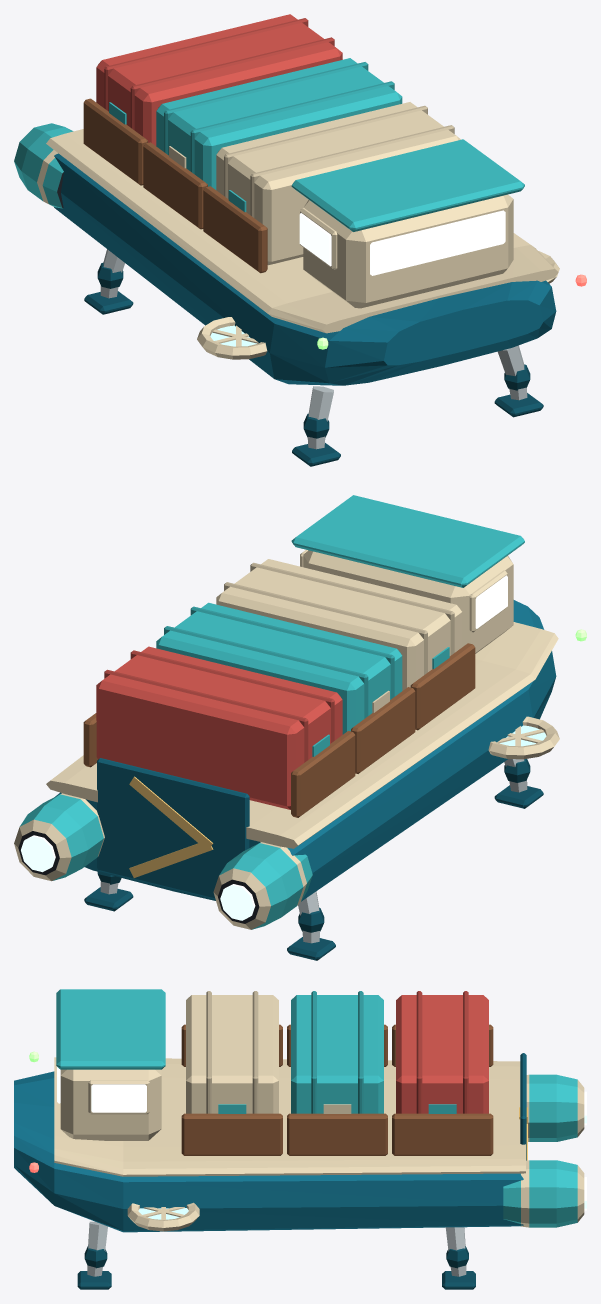
The model's file is pel-f_gelandet.glb.
3 views of the same model, one above another, from view 1: azimuth 30°, elevation 25°; view 2: azimuth 150°, elevation 25°; view 3: azimuth 270°, elevation 25° (orthographic). The views are drawn at different scales.
Visible parts, largest first — view 1: rumpf, brücke, frachtmodul_1, deckstreifen, frachtmodul_2, frachtmodul_3, fenster, halterung_1, halterung_3, halterung_2, triebwerk_r, hubdüse (+3 smaller); view 2: frachtmodul_3, brücke, rampe, rumpf, frachtmodul_2, frachtmodul_1, deckstreifen, triebwerk_r, triebwerk_l, halterung_3, halterung_1, halterung_2 (+5 smaller); view 3: rumpf, deckstreifen, brücke, frachtmodul_1, frachtmodul_3, frachtmodul_2, triebwerk_l, halterung_1, halterung_3, halterung_2, triebwerk_r, fenster (+4 smaller).
Part boxes in pixels (x1,y1,x2,y2): rumpf: (54, 153, 556, 385); brücke: (291, 139, 524, 308); frachtmodul_1: (216, 102, 460, 265); deckstreifen: (46, 129, 558, 333); frachtmodul_2: (156, 58, 402, 189); frachtmodul_3: (96, 14, 342, 145); fenster: (299, 207, 505, 275); halterung_1: (203, 186, 267, 273); halterung_3: (83, 98, 147, 185); halterung_2: (143, 142, 207, 229); triebwerk_r: (14, 123, 73, 208); hubdüse: (197, 251, 559, 359); frachtmodul_3: (96, 646, 342, 809); brücke: (291, 495, 524, 653); rampe: (97, 758, 249, 899); rumpf: (55, 600, 556, 901); frachtmodul_2: (156, 602, 402, 734); frachtmodul_1: (216, 559, 462, 690); deckstreifen: (46, 622, 558, 848); triebwerk_r: (213, 842, 312, 929); triebwerk_l: (14, 793, 104, 881); halterung_3: (83, 713, 355, 817); halterung_1: (410, 643, 475, 730); halterung_2: (351, 687, 415, 773); rumpf: (14, 1071, 523, 1232); deckstreifen: (54, 1057, 525, 1176); brücke: (56, 989, 165, 1140); frachtmodul_1: (186, 991, 278, 1113); frachtmodul_3: (396, 991, 488, 1113); frachtmodul_2: (291, 991, 383, 1113); triebwerk_l: (503, 1160, 586, 1227); halterung_1: (181, 1024, 282, 1155); halterung_3: (392, 1024, 493, 1155); halterung_2: (287, 1024, 387, 1155); triebwerk_r: (526, 1074, 586, 1141); fenster: (57, 1067, 149, 1114).
Bounding box in the file's own units: 0.1103 × 0.0735 × 0.1771.
